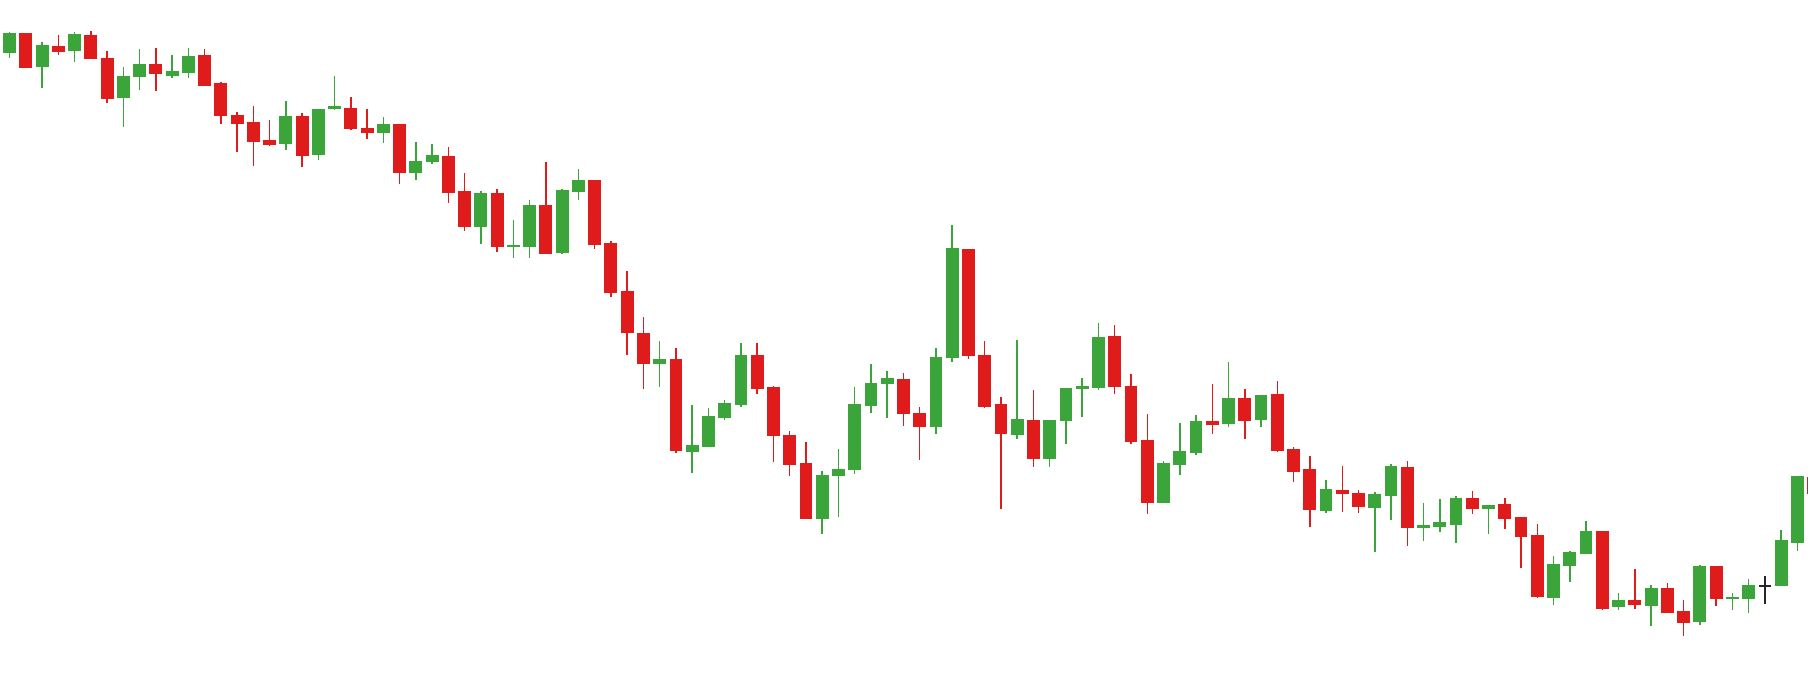buy: (684, 378, 845, 531)
sell: (1009, 324, 1124, 453)
